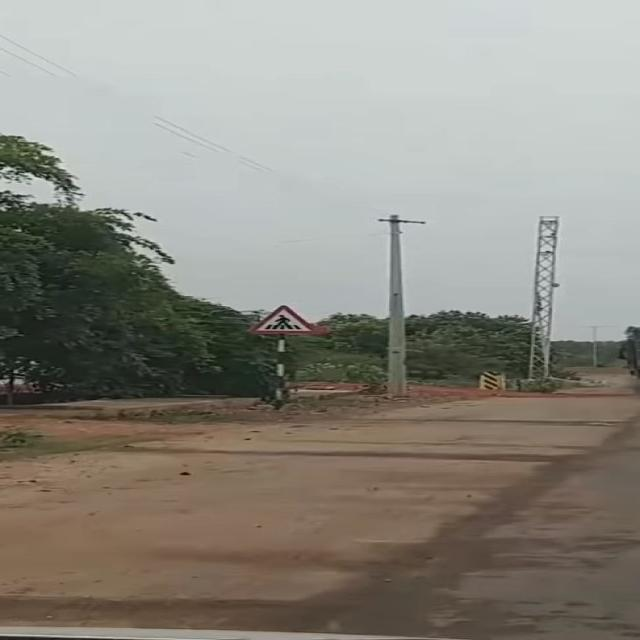Pedestrain_crossing: (249, 305, 322, 334)
